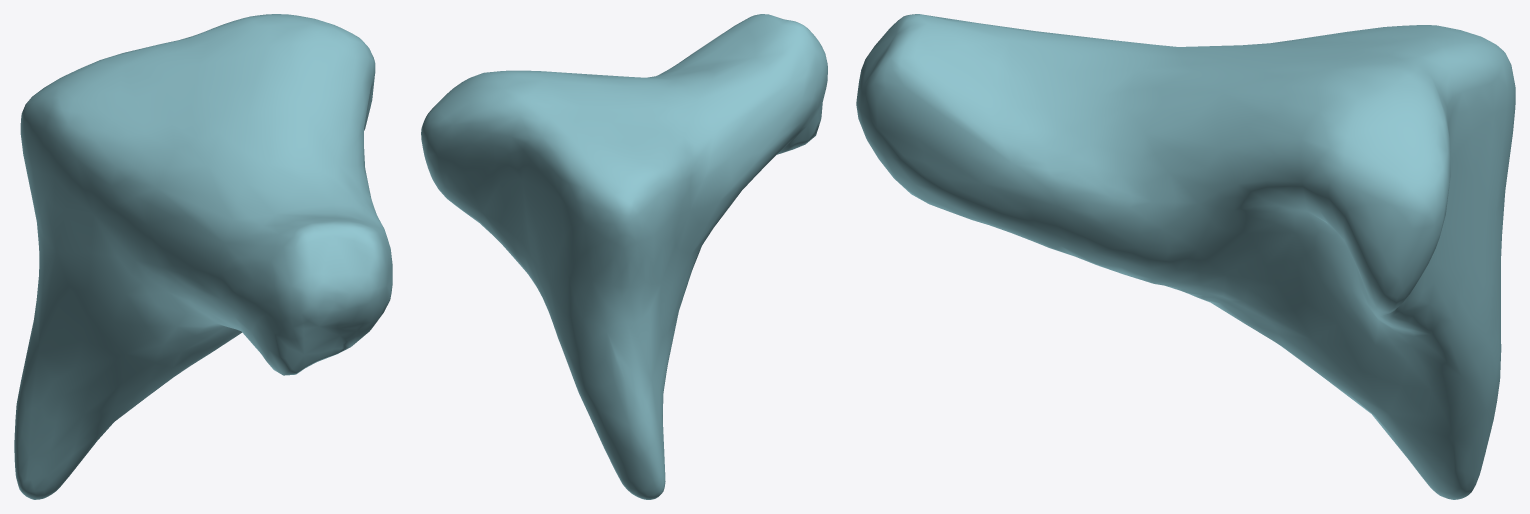
The picture shows the model from 3 angles, left to right: view 1: azimuth 30°, elevation 25°; view 2: azimuth 150°, elevation 25°; view 3: azimuth 270°, elevation 25°; orthographic projection. The views are drawn at different scales.
Visible parts, largest first — view 1: 左侧杓状软骨; view 2: 左侧杓状软骨; view 3: 左侧杓状软骨.
Part boxes in pixels (bbox=[...]): 左侧杓状软骨: bbox=[14, 14, 392, 499]; 左侧杓状软骨: bbox=[421, 14, 827, 499]; 左侧杓状软骨: bbox=[856, 14, 1515, 499].
Bounding box in the file's own units: 0.00802 × 0.0107 × 0.0119.
